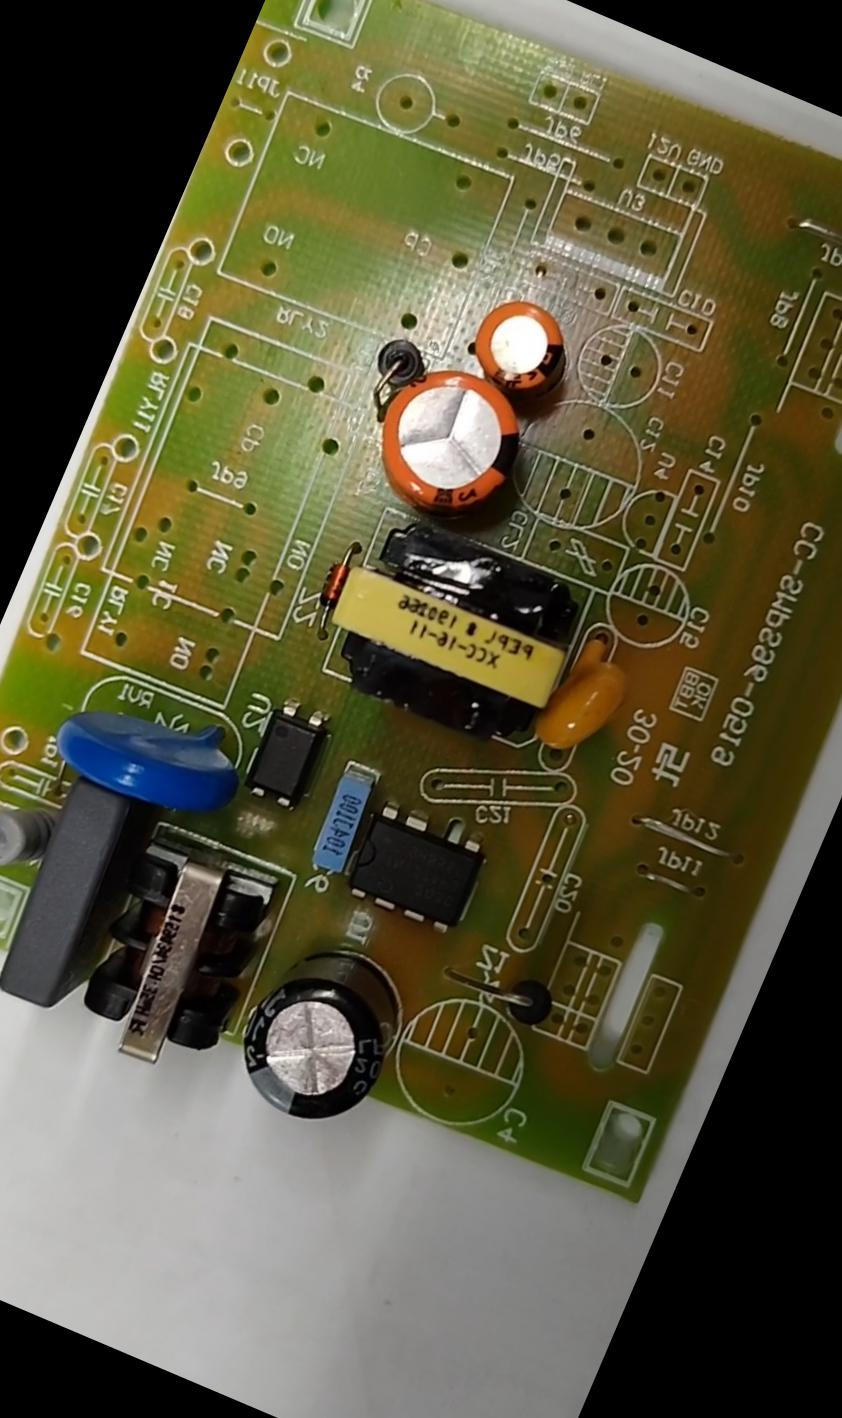Cap1: (358, 353, 539, 539)
Cap2: (460, 290, 575, 402)
Cap3: (216, 930, 414, 1146)
MOSFET: (339, 796, 488, 939)
Mov: (35, 667, 244, 833)
Resistor: (0, 772, 63, 884)
Transformer: (312, 502, 598, 759), (61, 834, 281, 1087)
